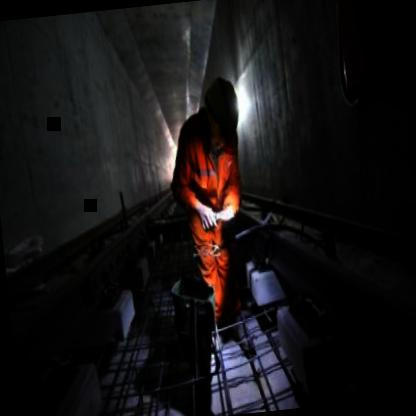helmet: (194, 74, 246, 158)
